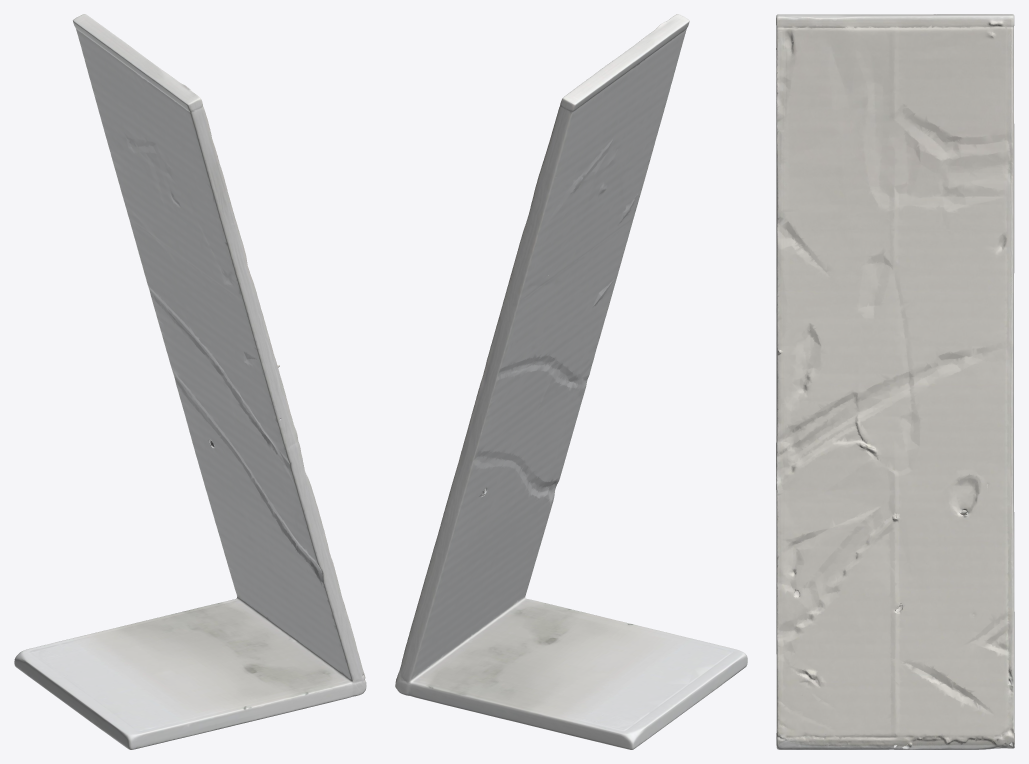
The model's file is wood-signage-iai.glb.
3 renders of one model, left to right at view 1: azimuth 30°, elevation 25°; view 2: azimuth 150°, elevation 25°; view 3: azimuth 270°, elevation 25°, orthographic. The views are drawn at different scales.
Parts seen in each view (by area): view 1: tripo_node_9e429e31-74db-4cdb-94d1-0e87c203ac42; view 2: tripo_node_9e429e31-74db-4cdb-94d1-0e87c203ac42; view 3: tripo_node_9e429e31-74db-4cdb-94d1-0e87c203ac42.
Boxes of the visible parts, <box> form: tripo_node_9e429e31-74db-4cdb-94d1-0e87c203ac42: <box>14,14,366,749</box>; tripo_node_9e429e31-74db-4cdb-94d1-0e87c203ac42: <box>395,14,747,749</box>; tripo_node_9e429e31-74db-4cdb-94d1-0e87c203ac42: <box>776,14,1014,749</box>.
Size of the model in its own units: 0.3837 by 0.9794 by 0.3249.
Materials: 1 (1 with a texture image).
